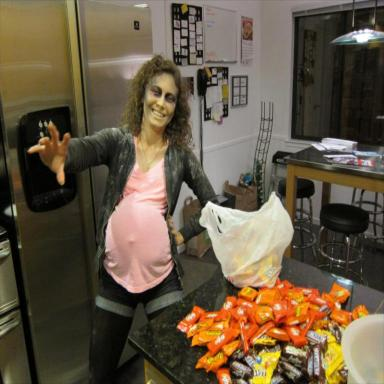plasticbag: (198, 191, 293, 288)
